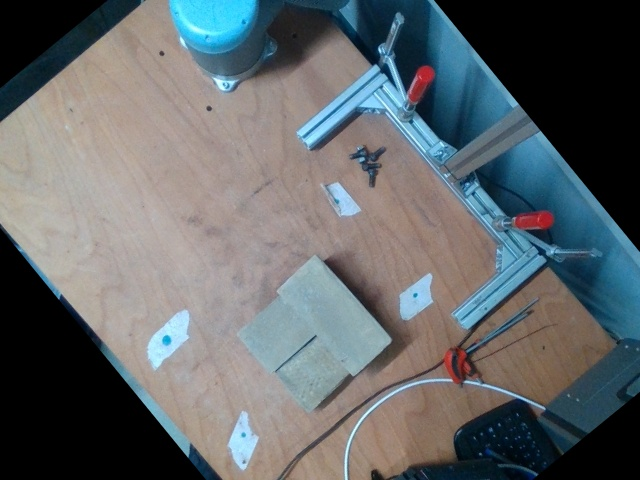brick: (275, 256, 390, 376)
